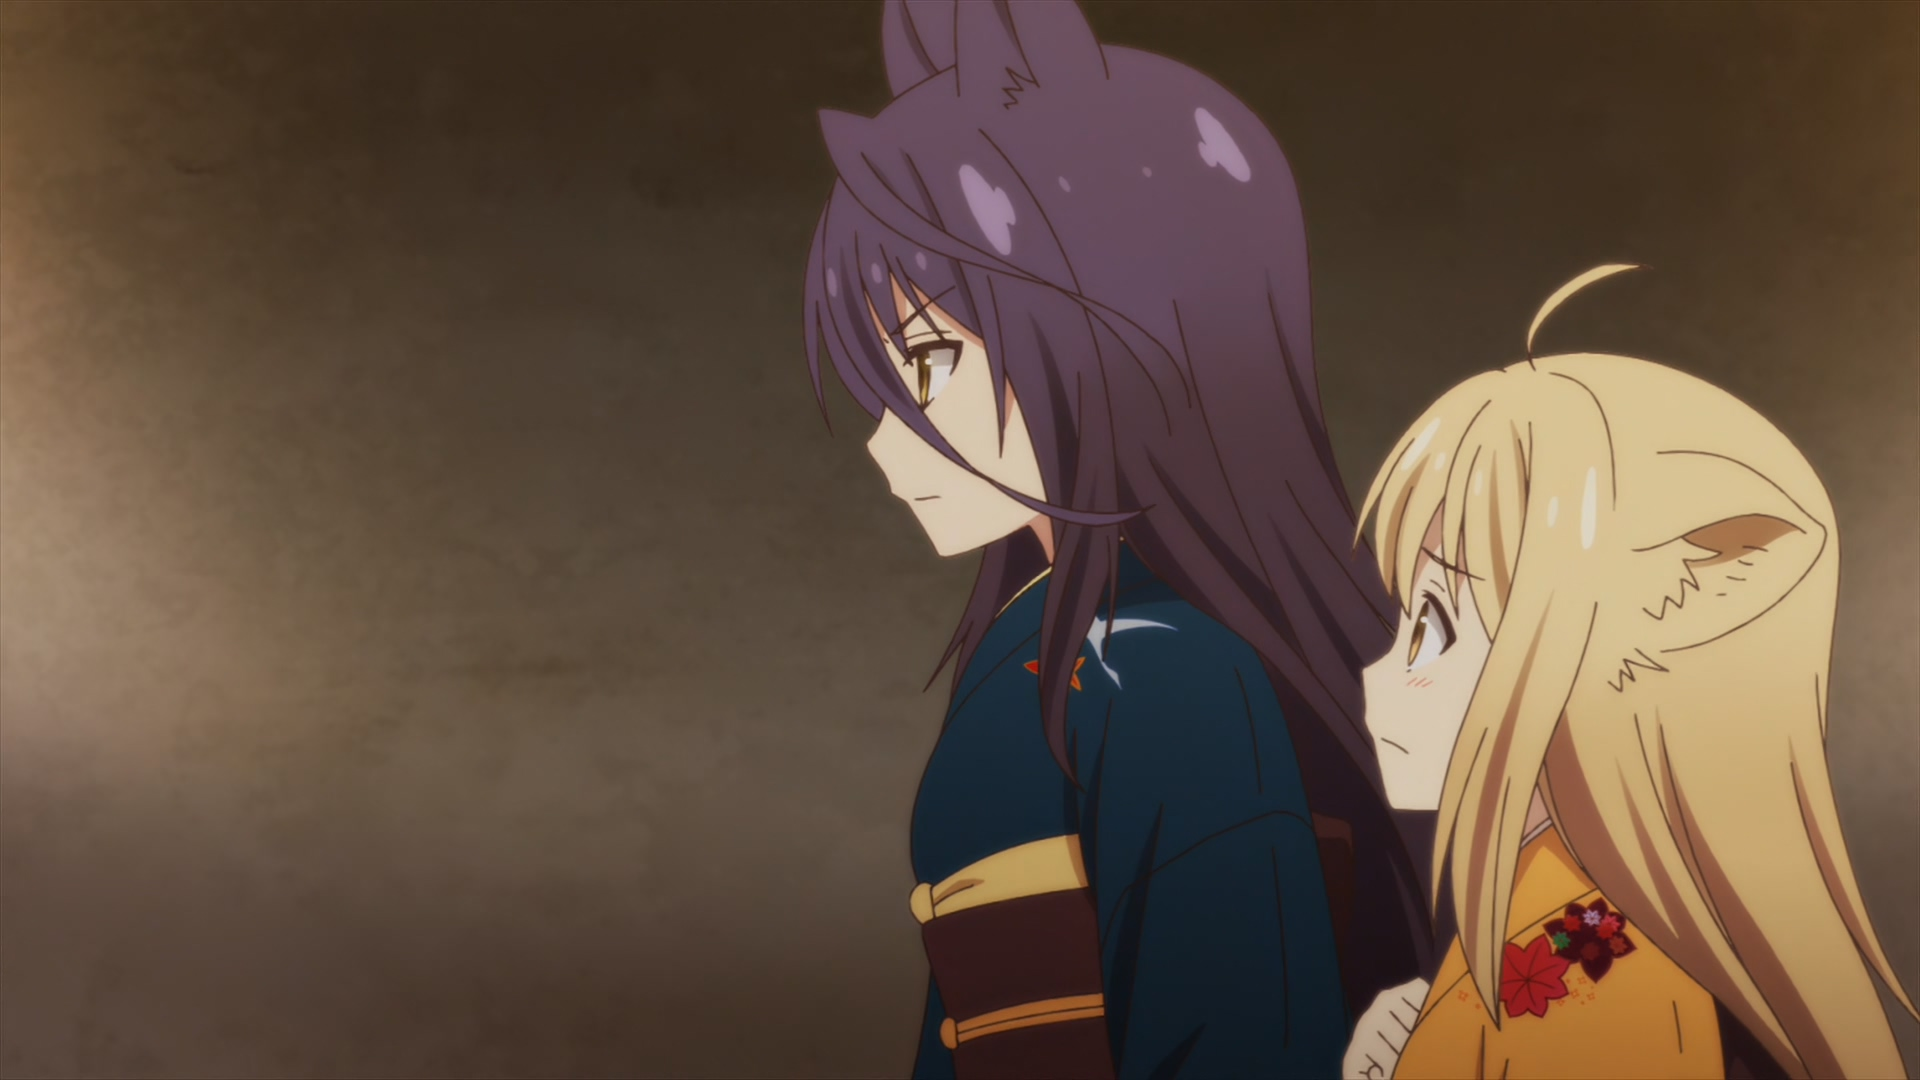柚: (1342, 264, 1920, 1080)
皋: (800, 1, 1455, 1080)
